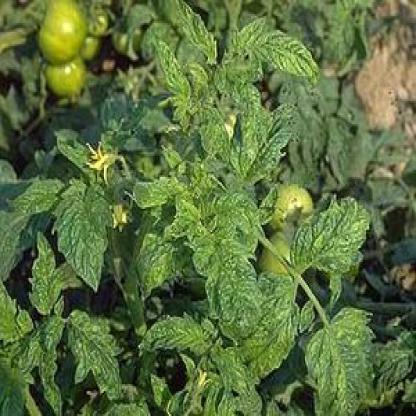tomato leaf yellow virus: (304, 303, 387, 414), (193, 212, 263, 338), (53, 165, 118, 297), (290, 191, 376, 283), (125, 196, 197, 301), (136, 303, 220, 370), (237, 27, 326, 87), (65, 308, 122, 398)
